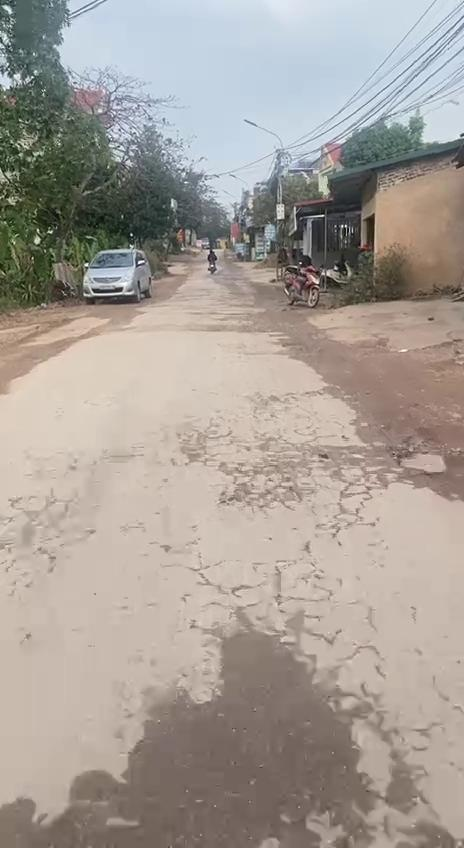pothole: (0, 620, 449, 848), (393, 426, 464, 500)
